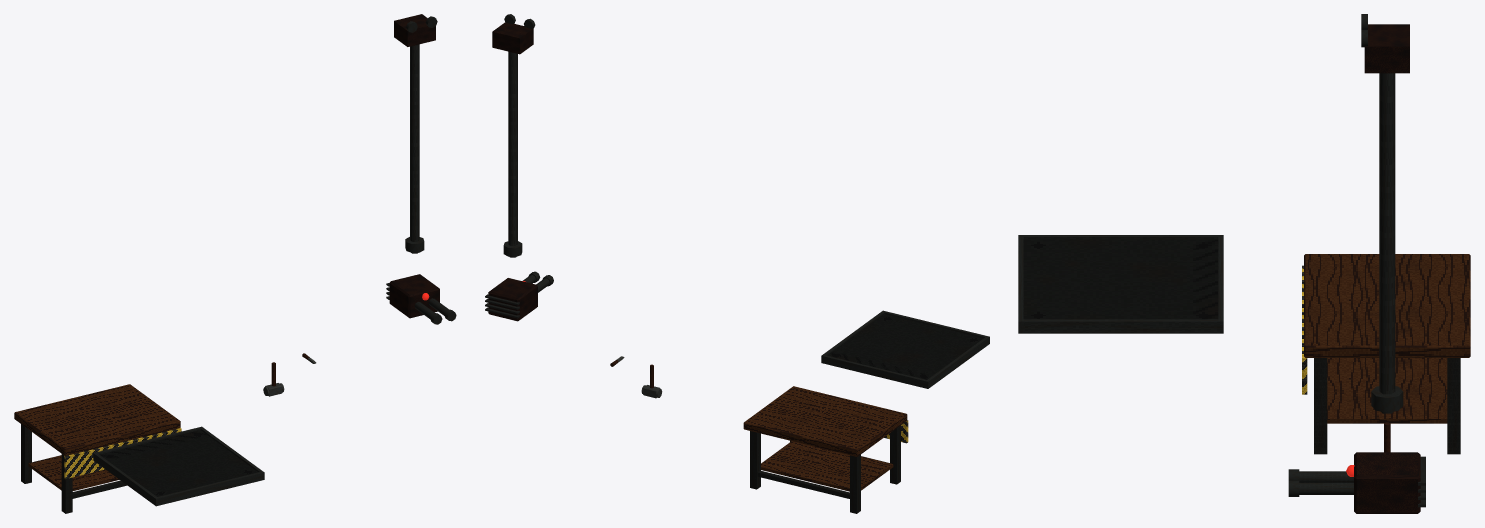
The model's file is chisel.glb.
3 views of the same model, side by side, from view 1: azimuth 30°, elevation 25°; view 2: azimuth 150°, elevation 25°; view 3: azimuth 270°, elevation 25° (orthographic). The views are drawn at different scales.
Parts seen in each view (by area): view 1: bench, slab_base, turret_arm, turret_head; view 2: bench, slab_base, turret_arm, turret_head; view 3: bench, slab_base, turret_arm, turret_head.
Part boxes in pixels (x1,y1,x2,y2): bench: [14, 384, 181, 513]; slab_base: [93, 426, 264, 506]; turret_arm: [394, 14, 437, 253]; turret_head: [386, 274, 456, 324]; bench: [743, 386, 908, 513]; slab_base: [821, 310, 989, 388]; turret_arm: [492, 14, 535, 257]; turret_head: [485, 271, 553, 321]; bench: [1302, 254, 1470, 454]; slab_base: [1018, 235, 1223, 333]; turret_arm: [1361, 14, 1409, 413]; turret_head: [1288, 452, 1425, 513].
Size of the model in its own units: 5.56 by 5.32 by 3.39.
10 materials, 9 textured.
